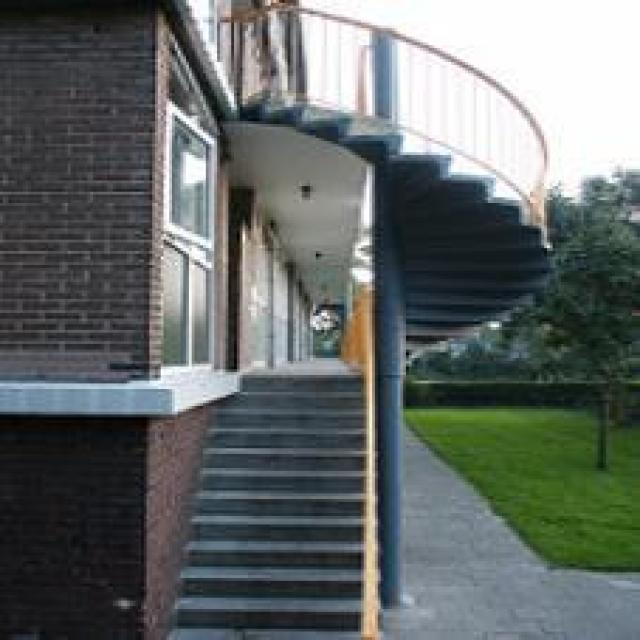upstair: (182, 432, 371, 613)
